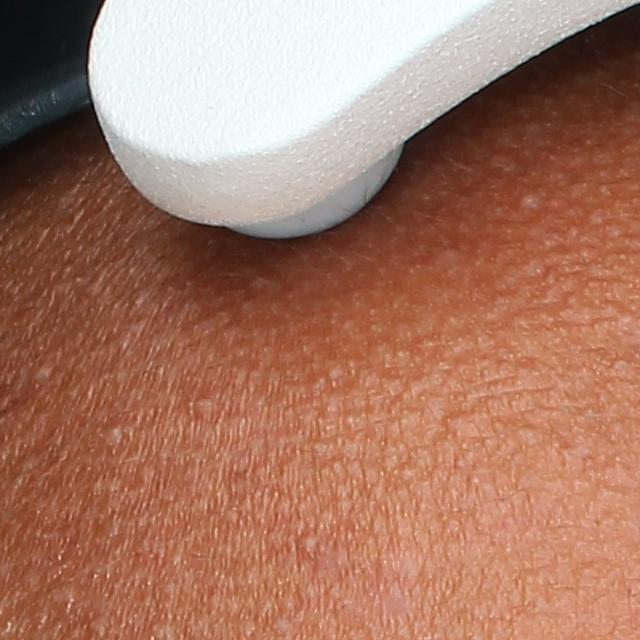comedo: (512, 186, 541, 217), (298, 527, 322, 558), (26, 360, 52, 383), (193, 394, 214, 418)
